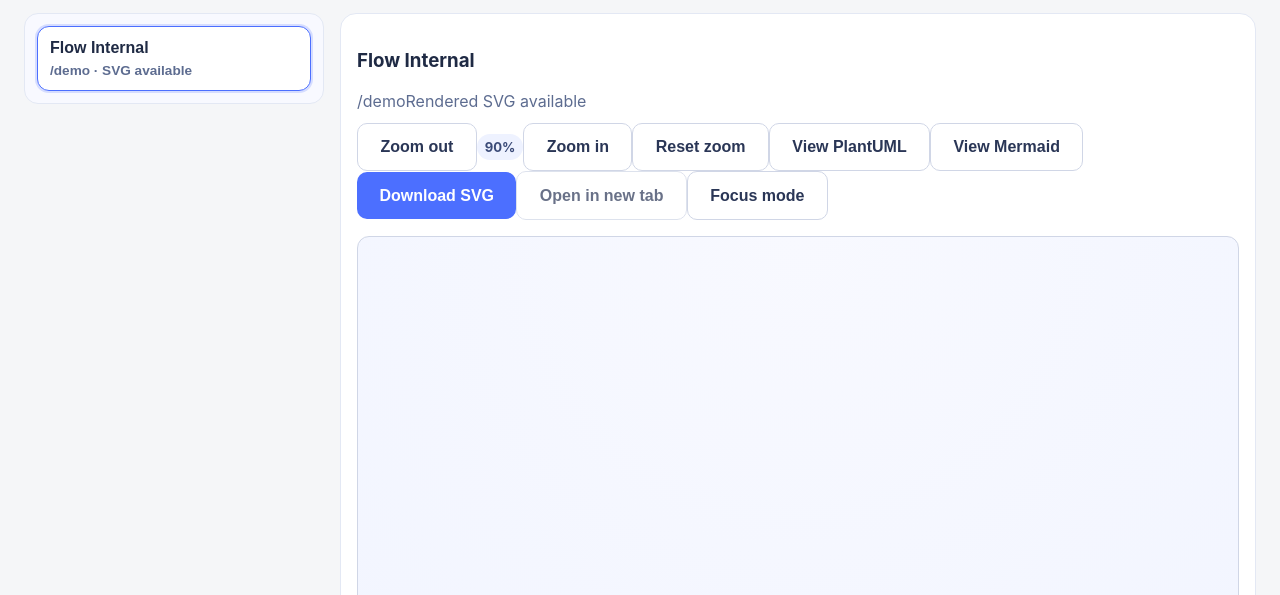
Test: DiagramsPanel › renders diagram list and toggles source visibility
Click the button "View PlantUML" at (850, 147), box [769,123,930,171]
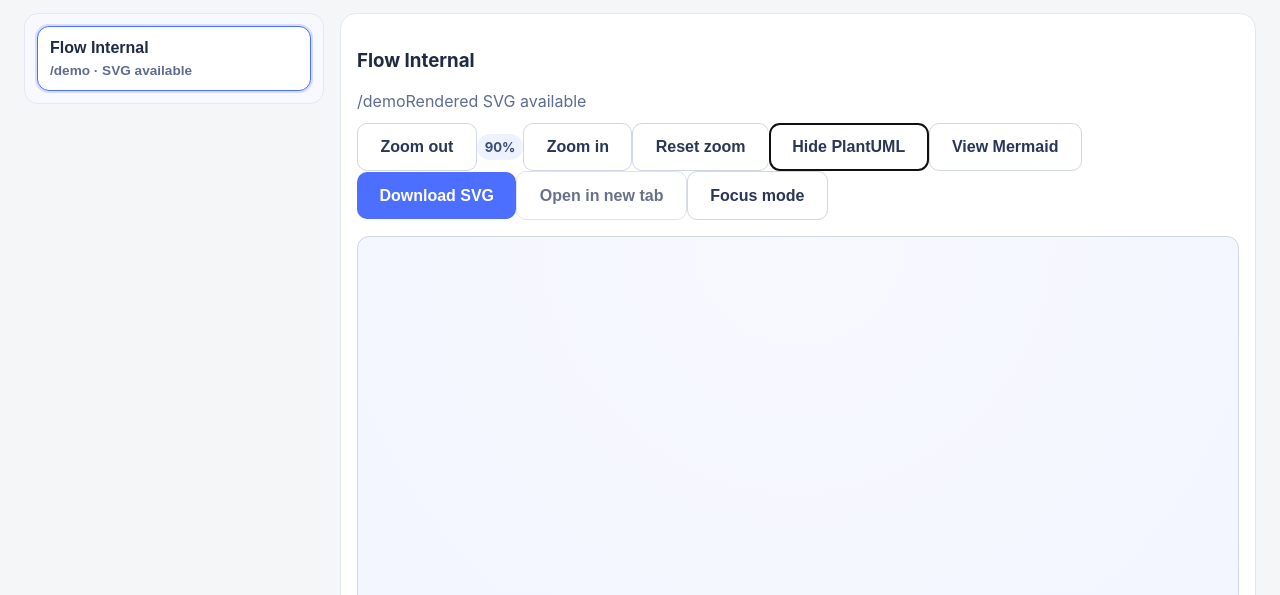
Click the button "View Mermaid" at (1005, 147), box [929,123,1082,171]
(page scrolled)
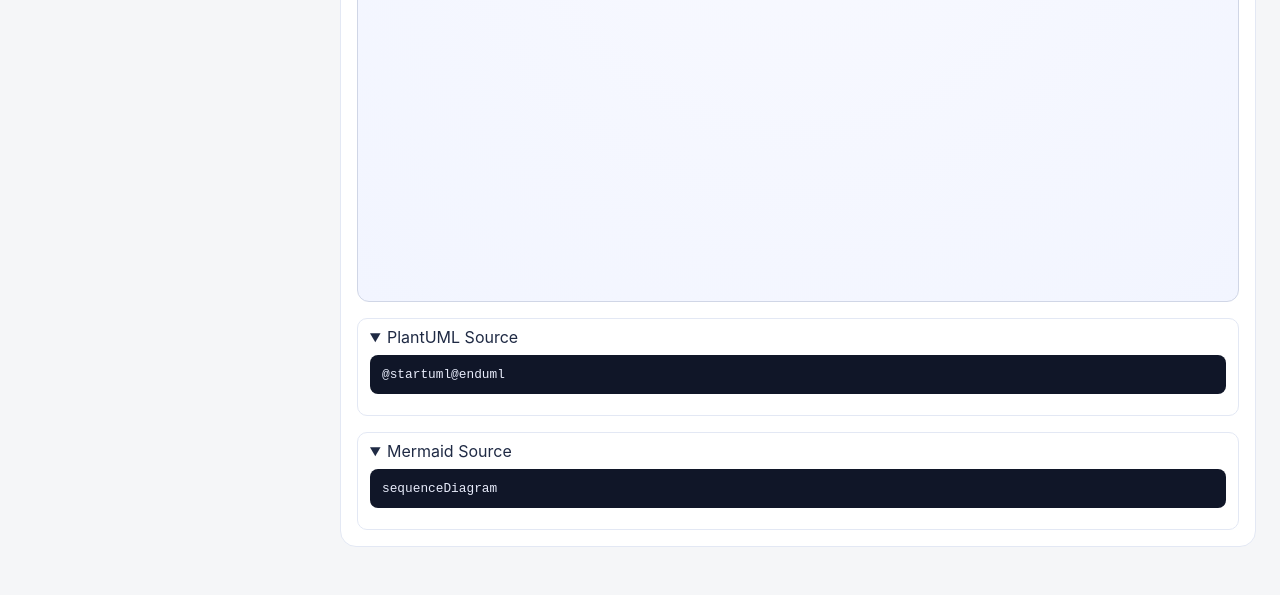
Now the text "sequenceDiagram" is shown, box [370,469,1226,508]
